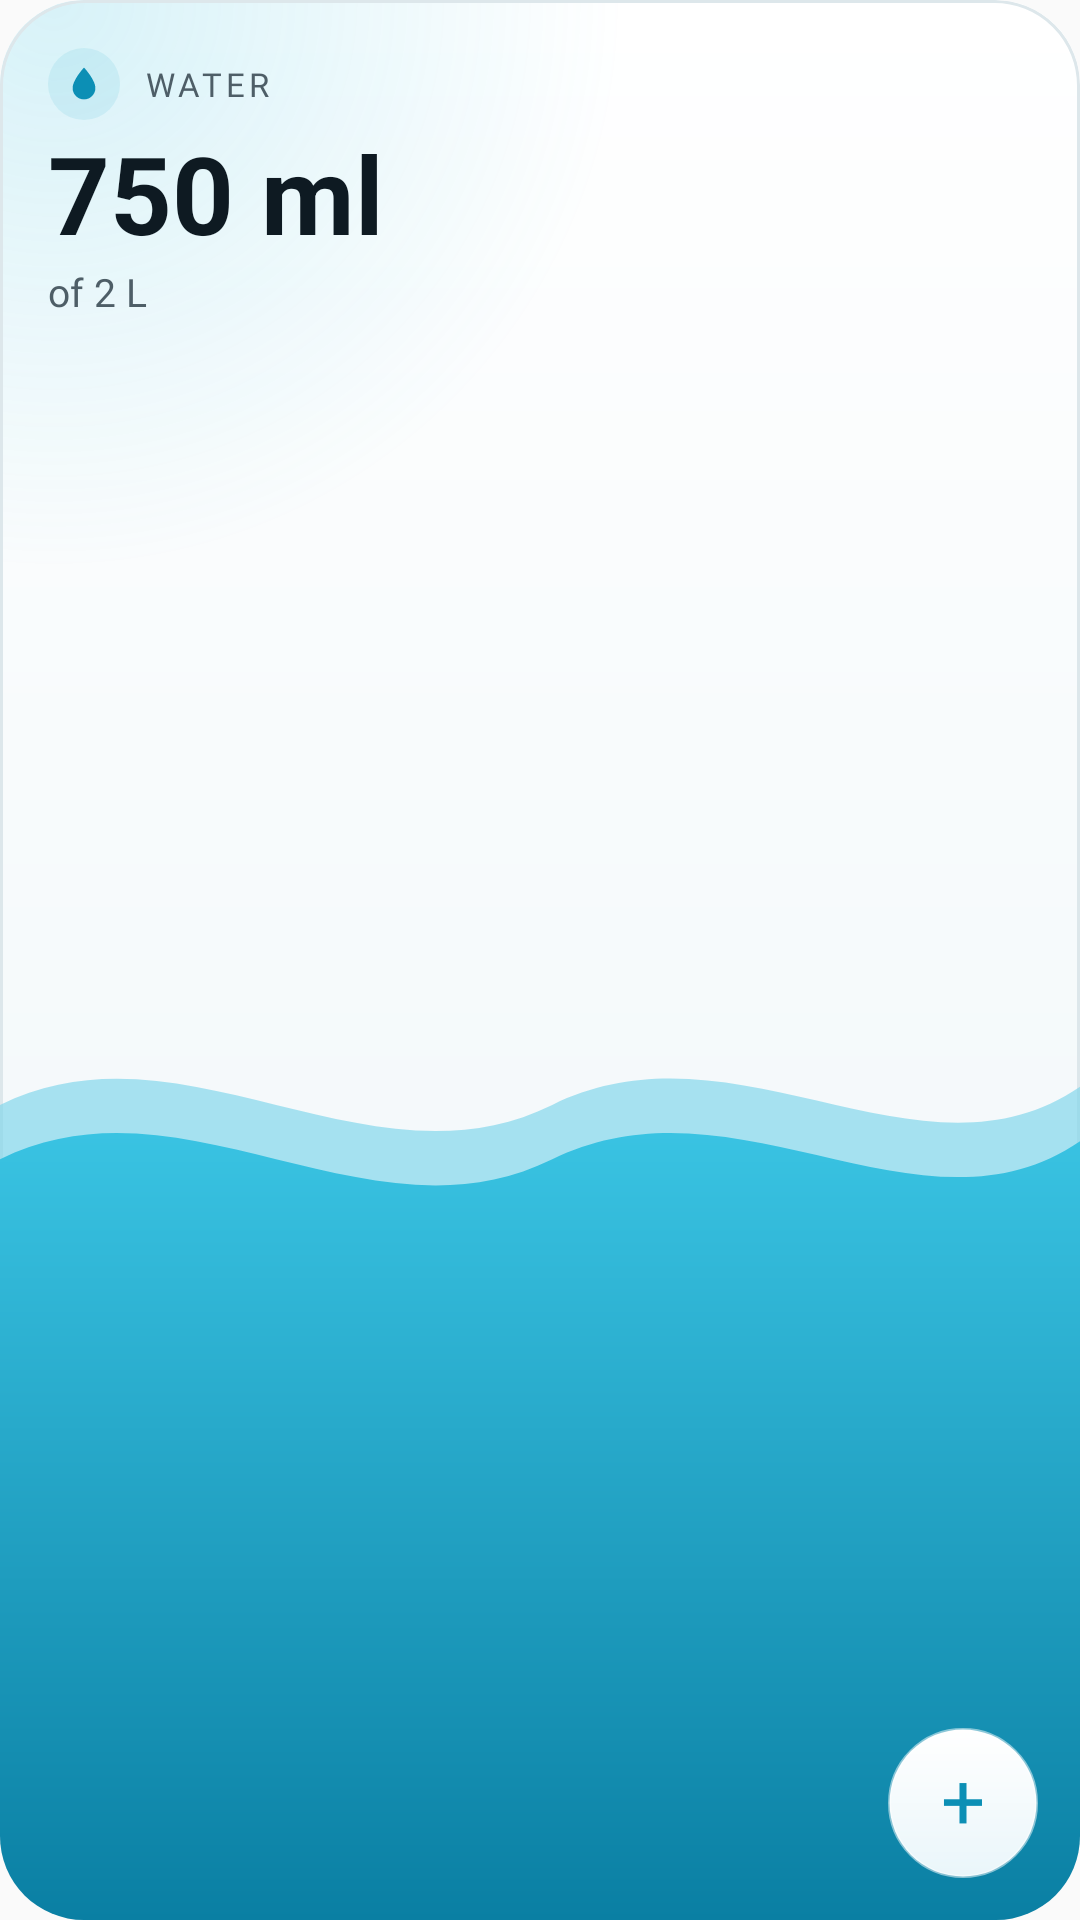

Icon click points for this 1080px×1920px phone screenshot, format [x,y]:
widget drop: [84,83]
